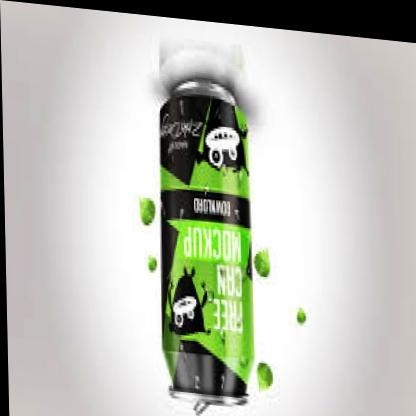trash: (160, 79, 252, 395)
